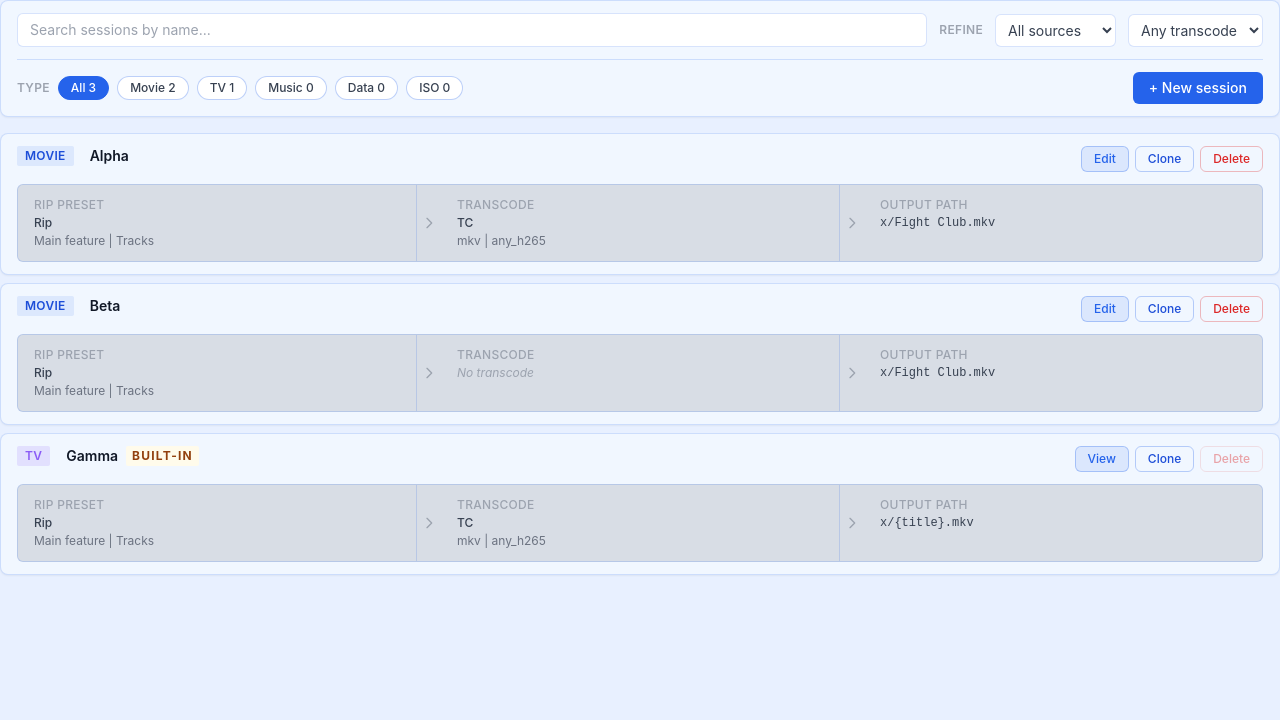
Test: transcode filter narrows by transcode_preset_id
Step 1. Select "Rip only" in the dropdown named "Filter by transcode" → coordinates (1196, 30), box [1128,14,1263,46]
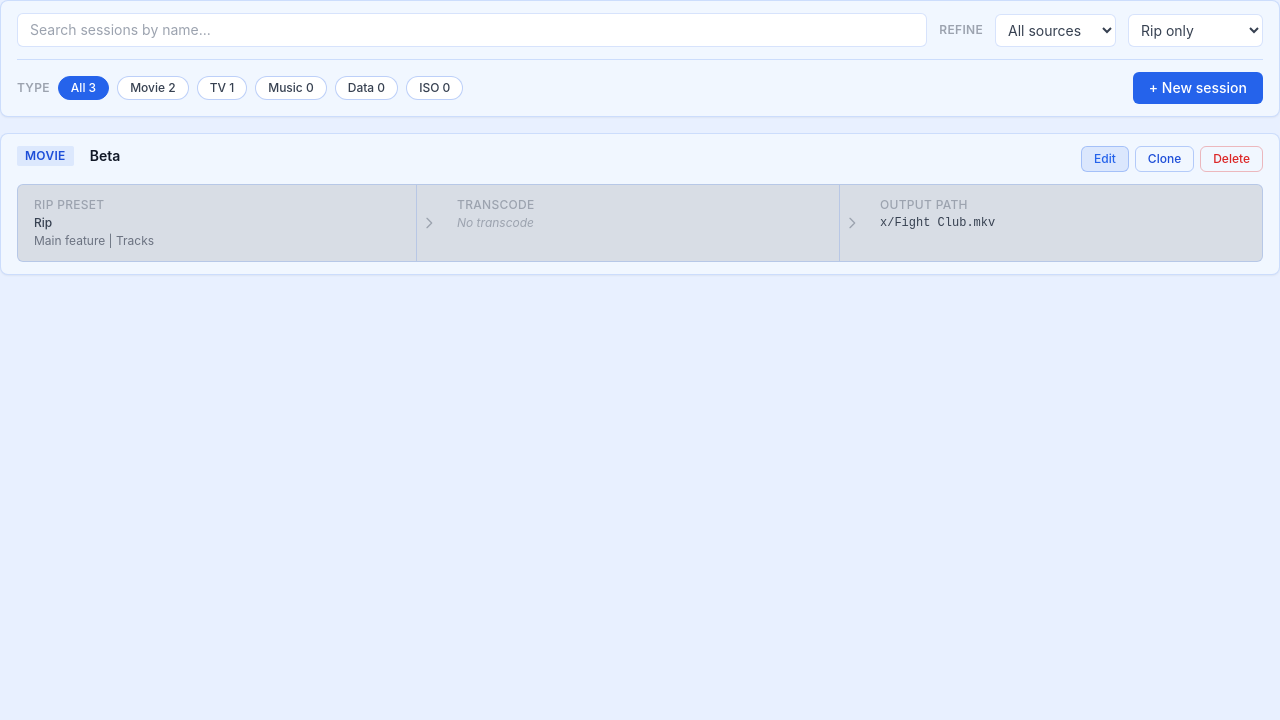
Expected: the text "Beta" is shown, [90,146,120,166]
Expected: the text "Alpha" is gone
Step 2. Select "Has transcode" in the dropdown named "Filter by transcode" → coordinates (1196, 30), box [1128,14,1263,46]
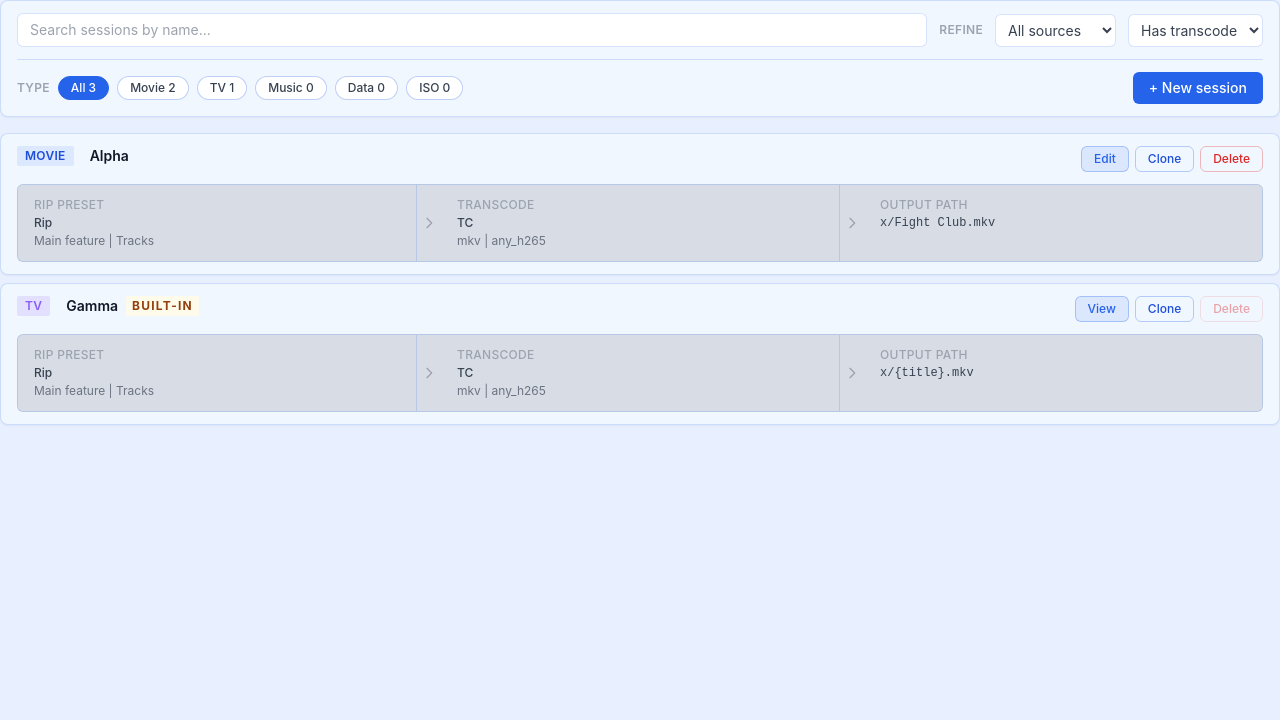
Expected: the text "Alpha" is shown, [90,146,129,166]
Expected: the text "Beta" is gone
